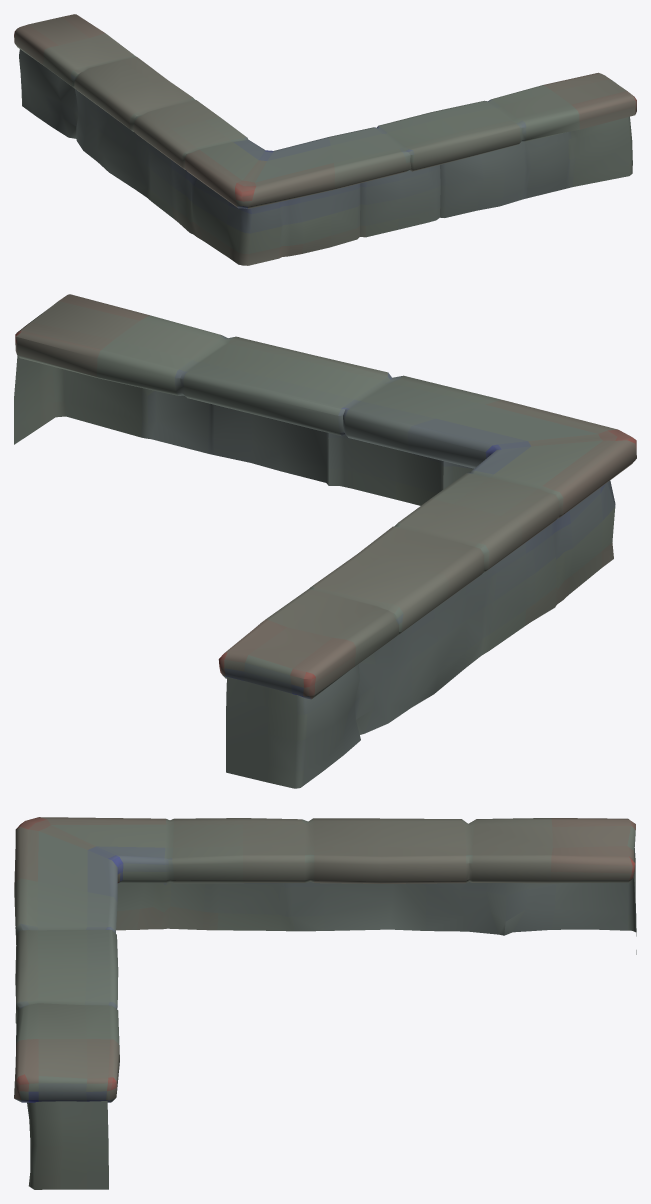
File: MiniWallB.fbx
3 views of the same model, one above another, from view 1: azimuth 30°, elevation 25°; view 2: azimuth 150°, elevation 25°; view 3: azimuth 270°, elevation 25° (orthographic). The views are drawn at different scales.
Parts seen in each view (by area): view 1: MiniWallB; view 2: MiniWallB; view 3: MiniWallB.
Part boxes in pixels (x1,y1,x2,y2): MiniWallB: [14, 14, 636, 265]; MiniWallB: [14, 294, 636, 788]; MiniWallB: [14, 817, 636, 1189].
Bounding box in the file's own units: 403 × 80.02 × 402.
